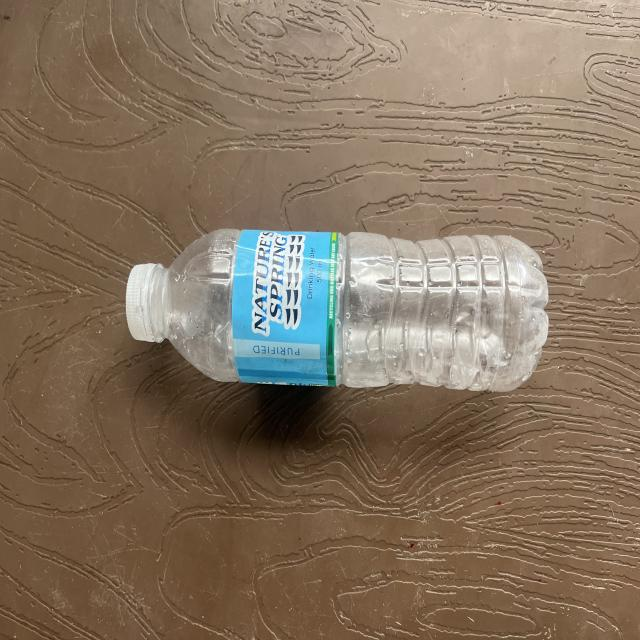REJECT: (120, 217, 569, 432)
